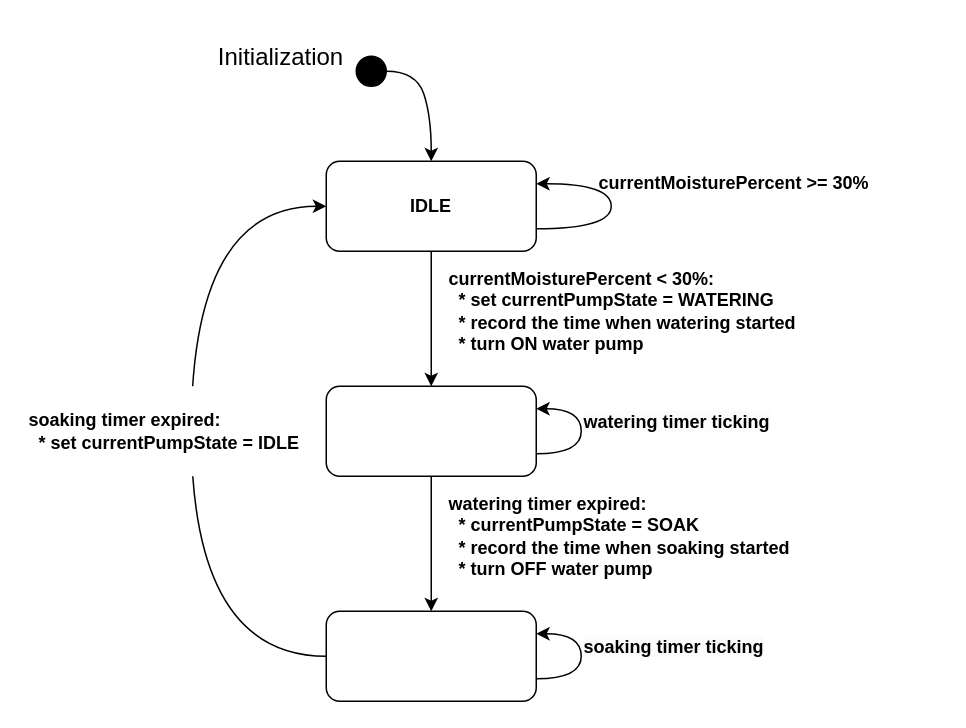
Some shapes in this 966 by 728 pixel diagram are drawn without their labels. The shapes that lost their labels are listed below. From the top down, each one's centre as x and y in pixels, then its label:
(x=430, y=430): WATERING
(x=430, y=655): SOAK
